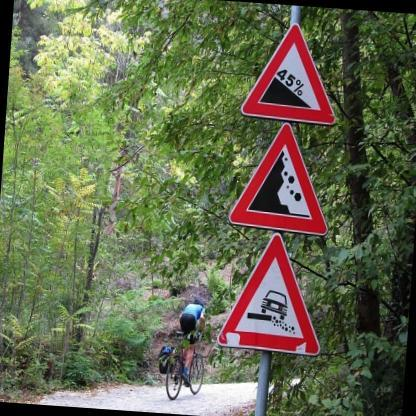road_sign: (217, 233, 318, 355), (241, 6, 334, 124), (229, 123, 325, 234)
